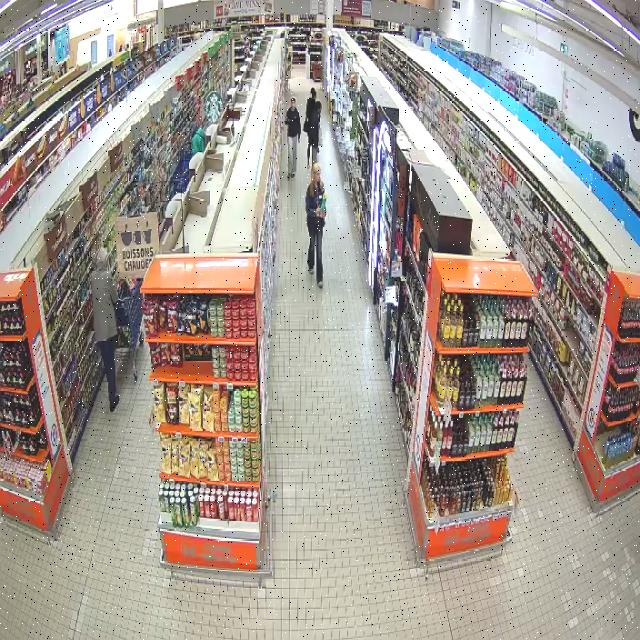article: (321, 193, 326, 214), (318, 195, 322, 207)
hands: (316, 207, 321, 216), (319, 212, 326, 218)
person: (92, 246, 118, 411), (305, 162, 325, 287)
